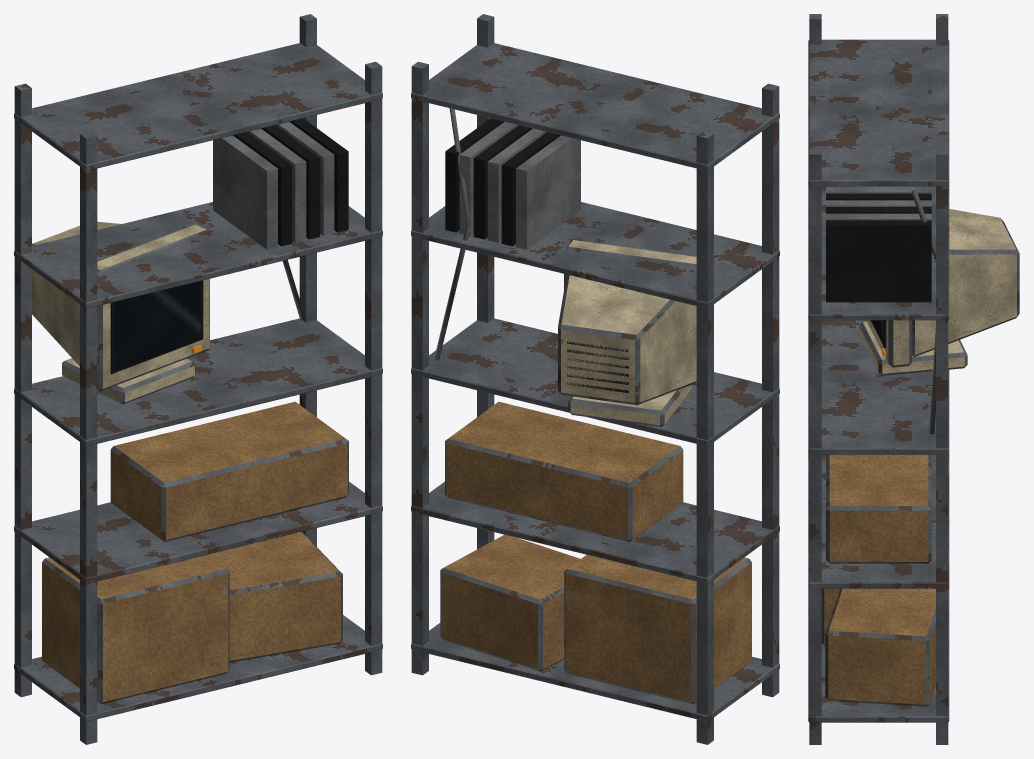
The model's file is Lab_Shelf.fbx.
3 renders of one model, left to right at view 1: azimuth 30°, elevation 25°; view 2: azimuth 150°, elevation 25°; view 3: azimuth 270°, elevation 25°, orthographic. The views are drawn at different scales.
Parts seen in each view (by area): view 1: Lab_Shelf; view 2: Lab_Shelf; view 3: Lab_Shelf.
Part boxes in pixels (x1=…): Lab_Shelf: x1=14, y1=14, x2=382, y2=744; Lab_Shelf: x1=411, y1=14, x2=779, y2=744; Lab_Shelf: x1=808, y1=14, x2=1019, y2=744.
Size of the model in its own units: 0.95 by 1.85 by 0.5994.
